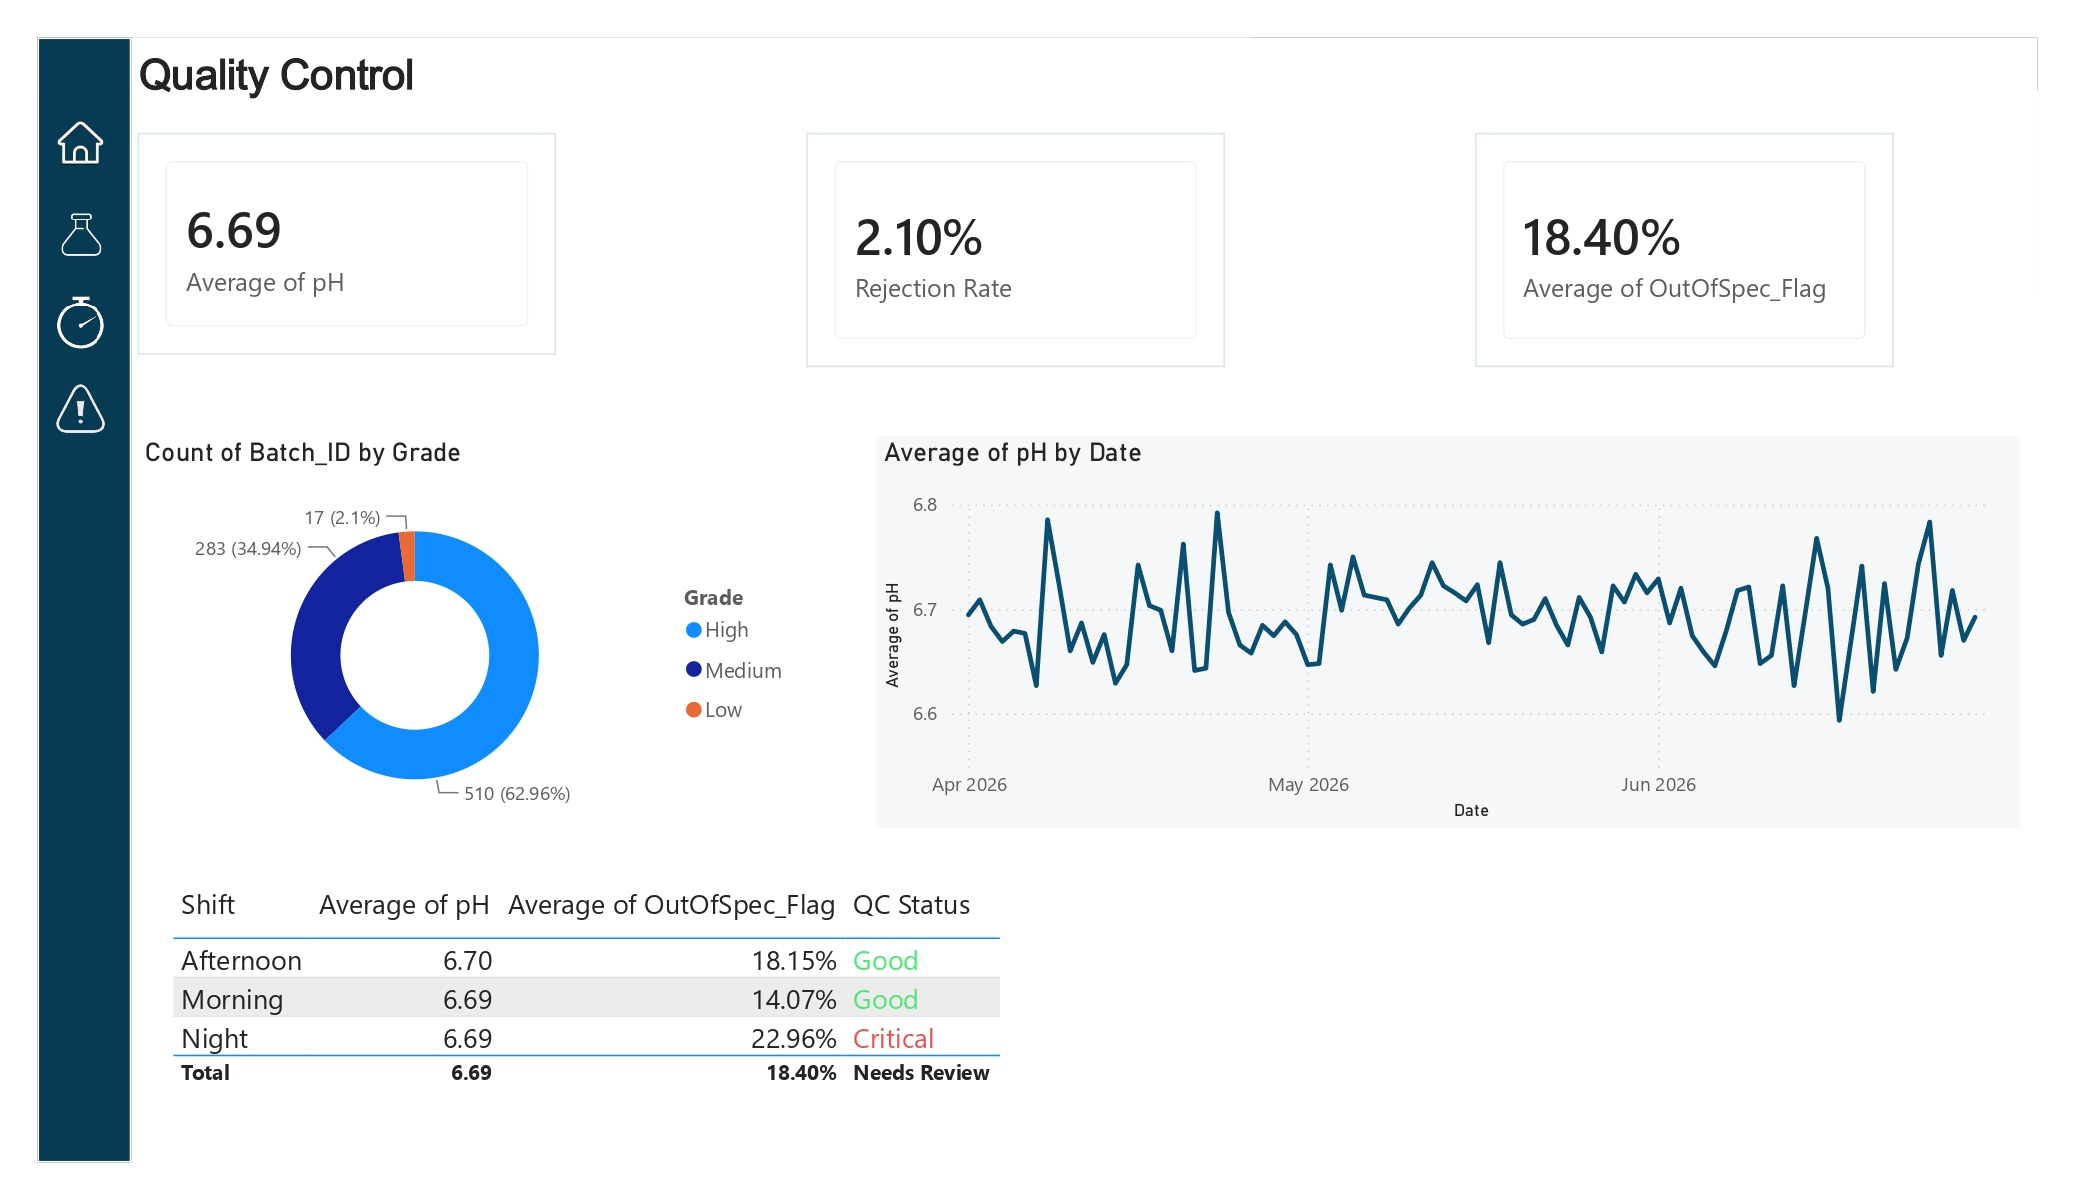

Layout of this report page (visuals, bound fields, positions):
{"tool":"powerbi","page":{"name":"Quality Control ","canvas":[1280,720],"ordinal":1},"visuals":[{"type":"cardVisual","title":"Overall OEE","fields":{"Data":["Avg(Fact_QC.pH)"]},"box":[64.1,60.7,267.6,142.7],"z":0},{"type":"textbox","box":[60,0,717.8,50.1],"z":1000},{"type":"cardVisual","title":"Rejection Rate","fields":{"Data":["Fact_QC.Rejection Rate"]},"box":[491.9,60.7,268,150],"z":2000},{"type":"cardVisual","title":"Total Downtime","fields":{"Data":["Avg(Fact_QC.OutOfSpec_Flag)"]},"box":[920.1,60.7,267.6,150.1],"z":3000},{"type":"shape","box":[0,0,60,720.2],"z":4000},{"type":"image","box":[10,50,35,35],"z":5000},{"type":"image","box":[8,105,40,40],"z":6000},{"type":"image","box":[10,220,35,35],"z":7000},{"type":"image","box":[7,162,40,40],"z":8000},{"type":"donutChart","fields":{"Category":["Fact_QC.Grade"],"Y":["CountNonNull(Fact_QC.Batch_ID)"]},"box":[64.5,255.2,426.8,251.1],"z":9000},{"type":"lineChart","fields":{"Y":["Avg(Fact_QC.pH)"],"Category":["Fact_QC.Date"]},"box":[536.5,255.2,732.8,251.1],"z":10000},{"type":"tableEx","fields":{"Values":["Dim_Shift.Shift","Avg(Fact_QC.pH)","Avg(Fact_QC.OutOfSpec_Flag)","Fact_QC.QC Status"]},"box":[84.4,539.3,675,161.4],"z":11000}]}

Visuals, with their boxes on the page's 1280x720 design canvas (x1, y1, x2, y2). These are canvas units, not pixel positions in the 2075x1200 screenshot, which may show the page scaled, cropped or inside an application window:
"Overall OEE" cardVisual: locate(64, 61, 332, 203)
textbox: locate(60, 0, 778, 50)
"Rejection Rate" cardVisual: locate(492, 61, 760, 211)
"Total Downtime" cardVisual: locate(920, 61, 1188, 211)
shape: locate(0, 0, 60, 720)
image: locate(10, 50, 45, 85)
image: locate(8, 105, 48, 145)
image: locate(10, 220, 45, 255)
image: locate(7, 162, 47, 202)
donutChart - Fact_QC.Grade x CountNonNull(Fact_QC.Batch_ID): locate(64, 255, 491, 506)
lineChart - Avg(Fact_QC.pH) x Fact_QC.Date: locate(536, 255, 1269, 506)
tableEx - Dim_Shift.Shift x Avg(Fact_QC.pH): locate(84, 539, 759, 701)
